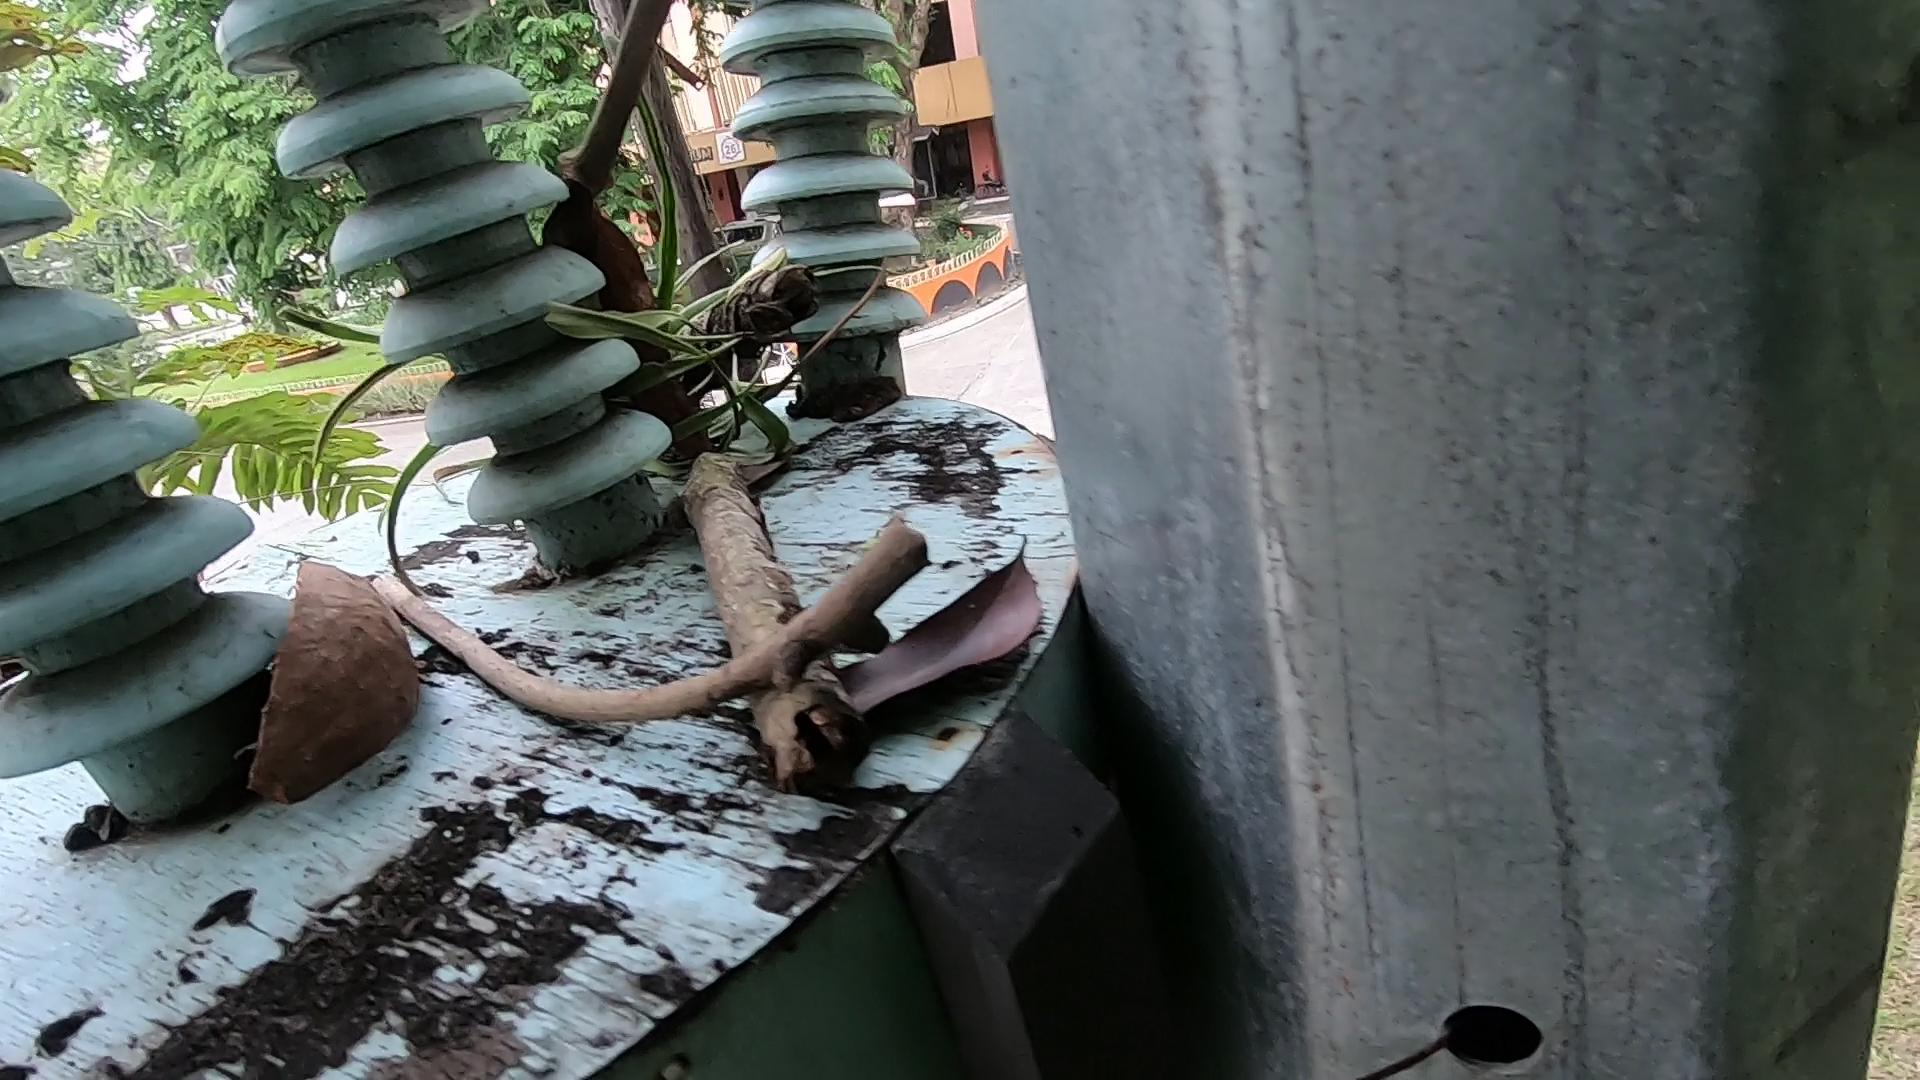branch with leaves: (572, 185, 909, 786)
leaf: (849, 538, 1054, 707)
mahogany fruit: (260, 571, 487, 800), (522, 182, 708, 444)
tree branch: (339, 593, 909, 740), (579, 1, 649, 214)
